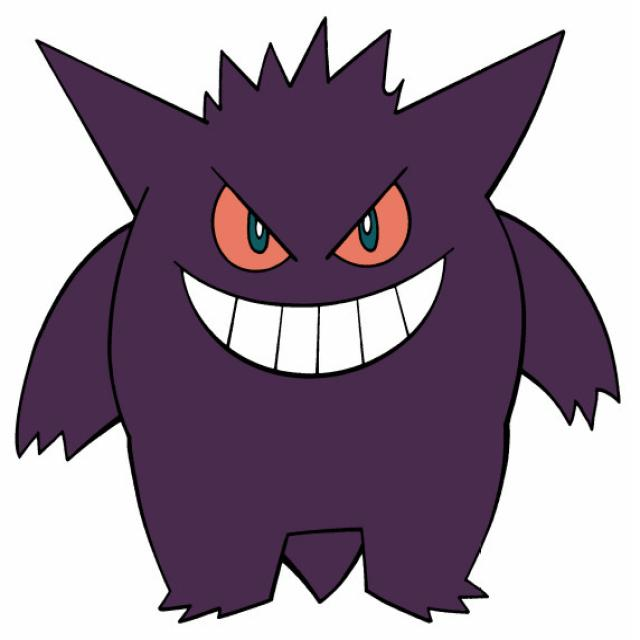Gengar: (38, 33, 571, 616)
